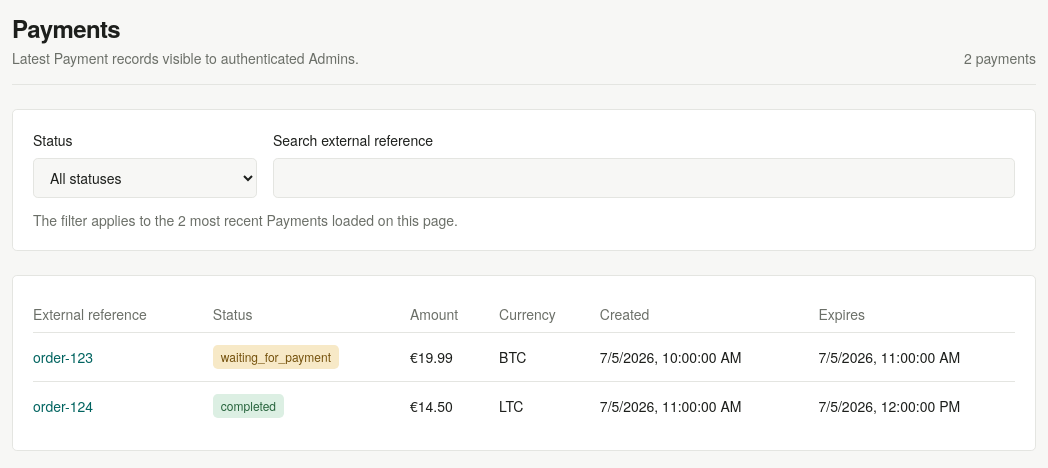
Test case: AdminPaymentsPage › narrows the list by status and keeps the filter in the URL
This screenshot has width=1048, height=468.
expect the link "order-123" is shown: met, box [33,347,93,367]
Select "completed" in the dropdown labelled "Status" at [145, 178], box [33,158,257,198]
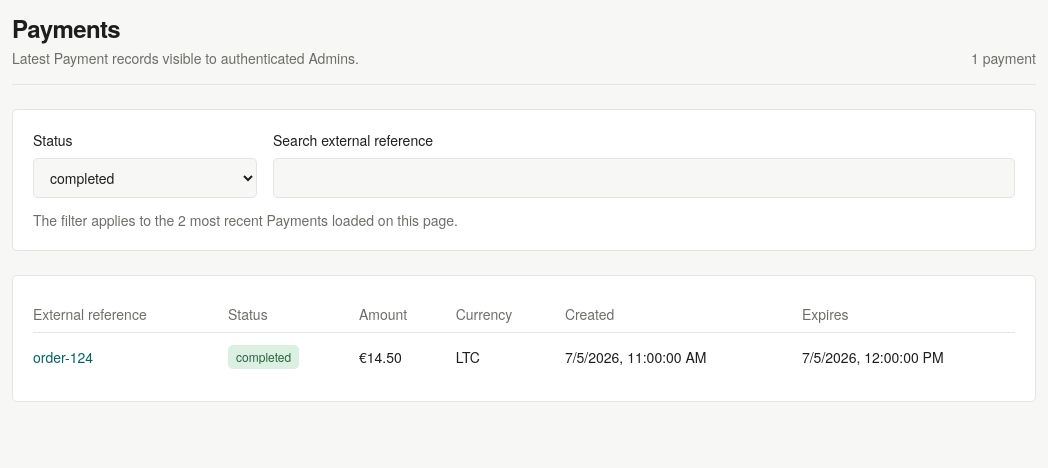
expect the link "order-124" is shown: met, box [33,347,93,367]
expect the link "order-123" is gone: met
